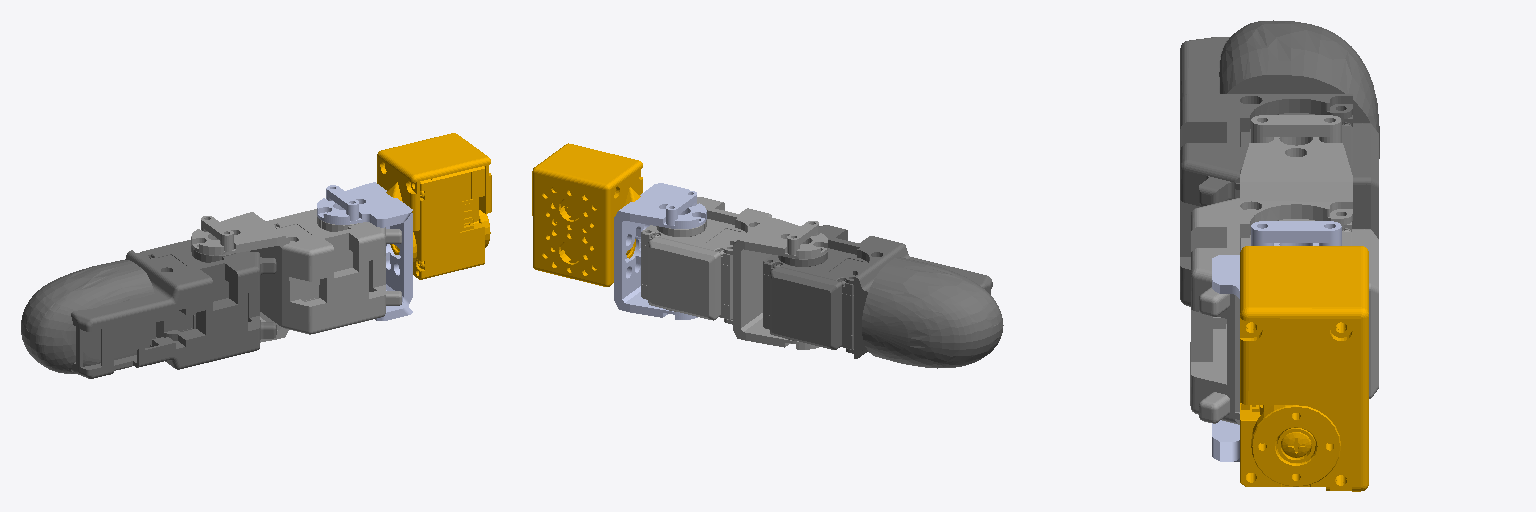
The robot description file, URDF, robot "xela_thumb_generated":
<?xml version="1.0" ?>
<robot name="xela_thumb_generated">

  <link name="cmc">
    <inertial>
      <origin xyz="-0.000232587 0.00882444 0.0117326" rpy="0.0 0.0 0.0"/>
      <mass value="0.032"/>
      <inertia ixx="3.63585e-06" ixy="2.0599e-08" ixz="8.412e-09" iyy="2.65288e-06" iyz="-1.4817e-08" izz="4.33226e-06"/>
    </inertial>


    <visual>
      <origin xyz="0.0 0.0075 0.0" rpy="-1.5708 -1.5708 0.0"/>
      <geometry>
        <mesh filename="package://assets/thp2_unified.stl"/>
      </geometry>
      <material name="thp2_unified_material">
        <color rgba="0.980392 0.713725 0.00392157 1.0"/>
      </material>
    </visual>
    


    <collision>
      <origin xyz="0.0 0.0075 0.0" rpy="-1.5708 -1.5708 0.0"/>
      <geometry>
        <mesh filename="package://assets/thp2_unified.stl"/>
      </geometry>
    </collision>
    
  </link>

  <link name="axl">
    <inertial>
      <origin xyz="0.000911557 -0.00108086 0.00811114" rpy="0.0 0.0 0.0"/>
      <mass value="0.003"/>
      <inertia ixx="4.40805e-07" ixy="-4.612e-09" ixz="-4.6465e-08" iyy="1.184e-06" iyz="4.476e-09" izz="1.12942e-06"/>
    </inertial>


    <visual>
      <origin xyz="-0.0173 0.0 0.019" rpy="1.5708 -0.0 0.0"/>
      <geometry>
        <mesh filename="package://assets/thconnector.stl"/>
      </geometry>
      <material name="thconnector_material">
        <color rgba="0.792157 0.819608 0.933333 1.0"/>
      </material>
    </visual>
    

    <visual>
      <origin xyz="0.0155 -0.006 0.019" rpy="-3.14159 0.0 1.5708"/>
      <geometry>
        <mesh filename="package://assets/clipper.stl"/>
      </geometry>
      <material name="clipper_material">
        <color rgba="0.792157 0.819608 0.933333 1.0"/>
      </material>
    </visual>
    


    <collision>
      <origin xyz="-0.0173 0.0 0.019" rpy="1.5708 -0.0 0.0"/>
      <geometry>
        <mesh filename="package://assets/thconnector.stl"/>
      </geometry>
    </collision>
    

    <collision>
      <origin xyz="0.0155 -0.006 0.019" rpy="-3.14159 0.0 1.5708"/>
      <geometry>
        <mesh filename="package://assets/clipper.stl"/>
      </geometry>
    </collision>
    
  </link>

  <link name="th_mcp">
    <inertial>
      <origin xyz="0.00144426 0.0112332 0.0144179" rpy="0.0 0.0 0.0"/>
      <mass value="0.038"/>
      <inertia ixx="7.98976e-06" ixy="8.1084e-08" ixz="-9.5788e-08" iyy="4.90108e-06" iyz="1.43138e-07" izz="7.77953e-06"/>
    </inertial>


    <visual>
      <origin xyz="-0.0 0.0245 0.0145" rpy="-0.0 -0.0 -0.0"/>
      <geometry>
        <mesh filename="package://assets/thp1_unified.stl"/>
      </geometry>
      <material name="thp1_unified_material">
        <color rgba="0.647059 0.647059 0.647059 1.0"/>
      </material>
    </visual>
    


    <collision>
      <origin xyz="-0.0 0.0245 0.0145" rpy="-0.0 -0.0 -0.0"/>
      <geometry>
        <mesh filename="package://assets/thp1_unified.stl"/>
      </geometry>
    </collision>
    
  </link>

  <link name="th_ipl">
    <inertial>
      <origin xyz="-0.00210586 -0.0274158 0.0145397" rpy="0.0 0.0 0.0"/>
      <mass value="0.049"/>
      <inertia ixx="3.16029e-05" ixy="2.85926e-07" ixz="1.022e-07" iyy="8.51257e-06" iyz="-8.066e-08" izz="3.25689e-05"/>
    </inertial>


    <visual>
      <origin xyz="-0.0 -0.0275 0.014504" rpy="1.5708 0.0 -0.0"/>
      <geometry>
        <mesh filename="package://assets/thfingertip_unified.stl"/>
      </geometry>
      <material name="thfingertip_unified_material">
        <color rgba="0.498039 0.498039 0.498039 1.0"/>
      </material>
    </visual>
    


    <collision>
      <origin xyz="-0.0 -0.0275 0.014504" rpy="1.5708 0.0 -0.0"/>
      <geometry>
        <mesh filename="package://assets/thfingertip_unified.stl"/>
      </geometry>
    </collision>
    
  </link>

  <joint name="th_axl" type="revolute">
    <origin xyz="-0.0144 -0.0 0.013" rpy="-1.5708 0.0 1.5708"/>
    <parent link="cmc"/>
    <child link="axl"/>
    <axis xyz="0.0 0.0 1.0"/>
    <limit effort="0.95" velocity="8.48" lower="-0.305" upper="0.436"/>
  </joint>

  <joint name="th_mcp" type="revolute">
    <origin xyz="0.0145 -0.0 0.019" rpy="1.5708 0.0 -1.5708"/>
    <parent link="axl"/>
    <child link="th_mcp"/>
    <axis xyz="0.0 0.0 1.0"/>
    <limit effort="0.95" velocity="8.48" lower="-0.262" upper="1.396"/>
  </joint>

  <joint name="th_ipl" type="revolute">
    <origin xyz="-0.0 0.0446 0.0" rpy="-0.0 -0.0 -3.14159"/>
    <parent link="th_mcp"/>
    <child link="th_ipl"/>
    <axis xyz="0.0 0.0 1.0"/>
    <limit effort="0.95" velocity="8.48" lower="-0.436" upper="1.309"/>
  </joint>
<link name="base"/>
<joint name="base" type="fixed">
  <origin xyz="0 0 0.2" rpy="1.57 0 0"/>
  <parent link="base"/>
  <child link="cmc"/>
</joint>
</robot>

--- Facts derived from the render (not from the file) ---
3 views of the same robot in one strip: view 1: azimuth 30°, elevation 25°; view 2: azimuth 150°, elevation 25°; view 3: azimuth 270°, elevation 25° (orthographic).
Robot: xela_thumb_generated — 5 links, 4 joints (3 revolute, 1 fixed); root link base; default pose: every joint at zero.
Links seen in each view (by area): view 1: th_ipl, th_mcp, cmc, axl; view 2: th_ipl, th_mcp, cmc, axl; view 3: cmc, th_ipl, th_mcp, axl.
Boxes of the visible links, x1=… form: th_ipl: x1=21, y1=240, x2=276, y2=378; th_mcp: x1=191, y1=209, x2=401, y2=342; cmc: x1=377, y1=133, x2=491, y2=279; axl: x1=317, y1=182, x2=412, y2=320; th_ipl: x1=763, y1=225, x2=1003, y2=368; th_mcp: x1=641, y1=197, x2=827, y2=349; cmc: x1=532, y1=143, x2=642, y2=286; axl: x1=614, y1=183, x2=706, y2=319; cmc: x1=1240, y1=246, x2=1368, y2=491; th_ipl: x1=1180, y1=20, x2=1379, y2=306; th_mcp: x1=1190, y1=115, x2=1378, y2=424; axl: x1=1212, y1=221, x2=1341, y2=461.
Size in the robot's own frame: 0.1619 by 0.0355 by 0.0438 metres.
Meshes: 5 distinct files referenced, 5 mesh visuals loaded (5 binary STL).
